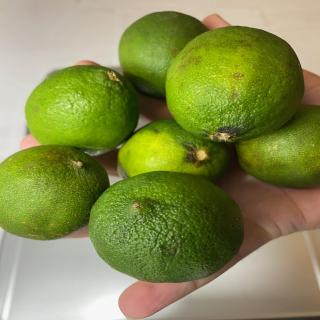Lemon: (88, 170, 245, 283), (165, 25, 305, 143), (0, 144, 110, 241), (24, 65, 140, 156), (118, 11, 209, 98), (117, 118, 230, 183), (234, 104, 320, 188)
